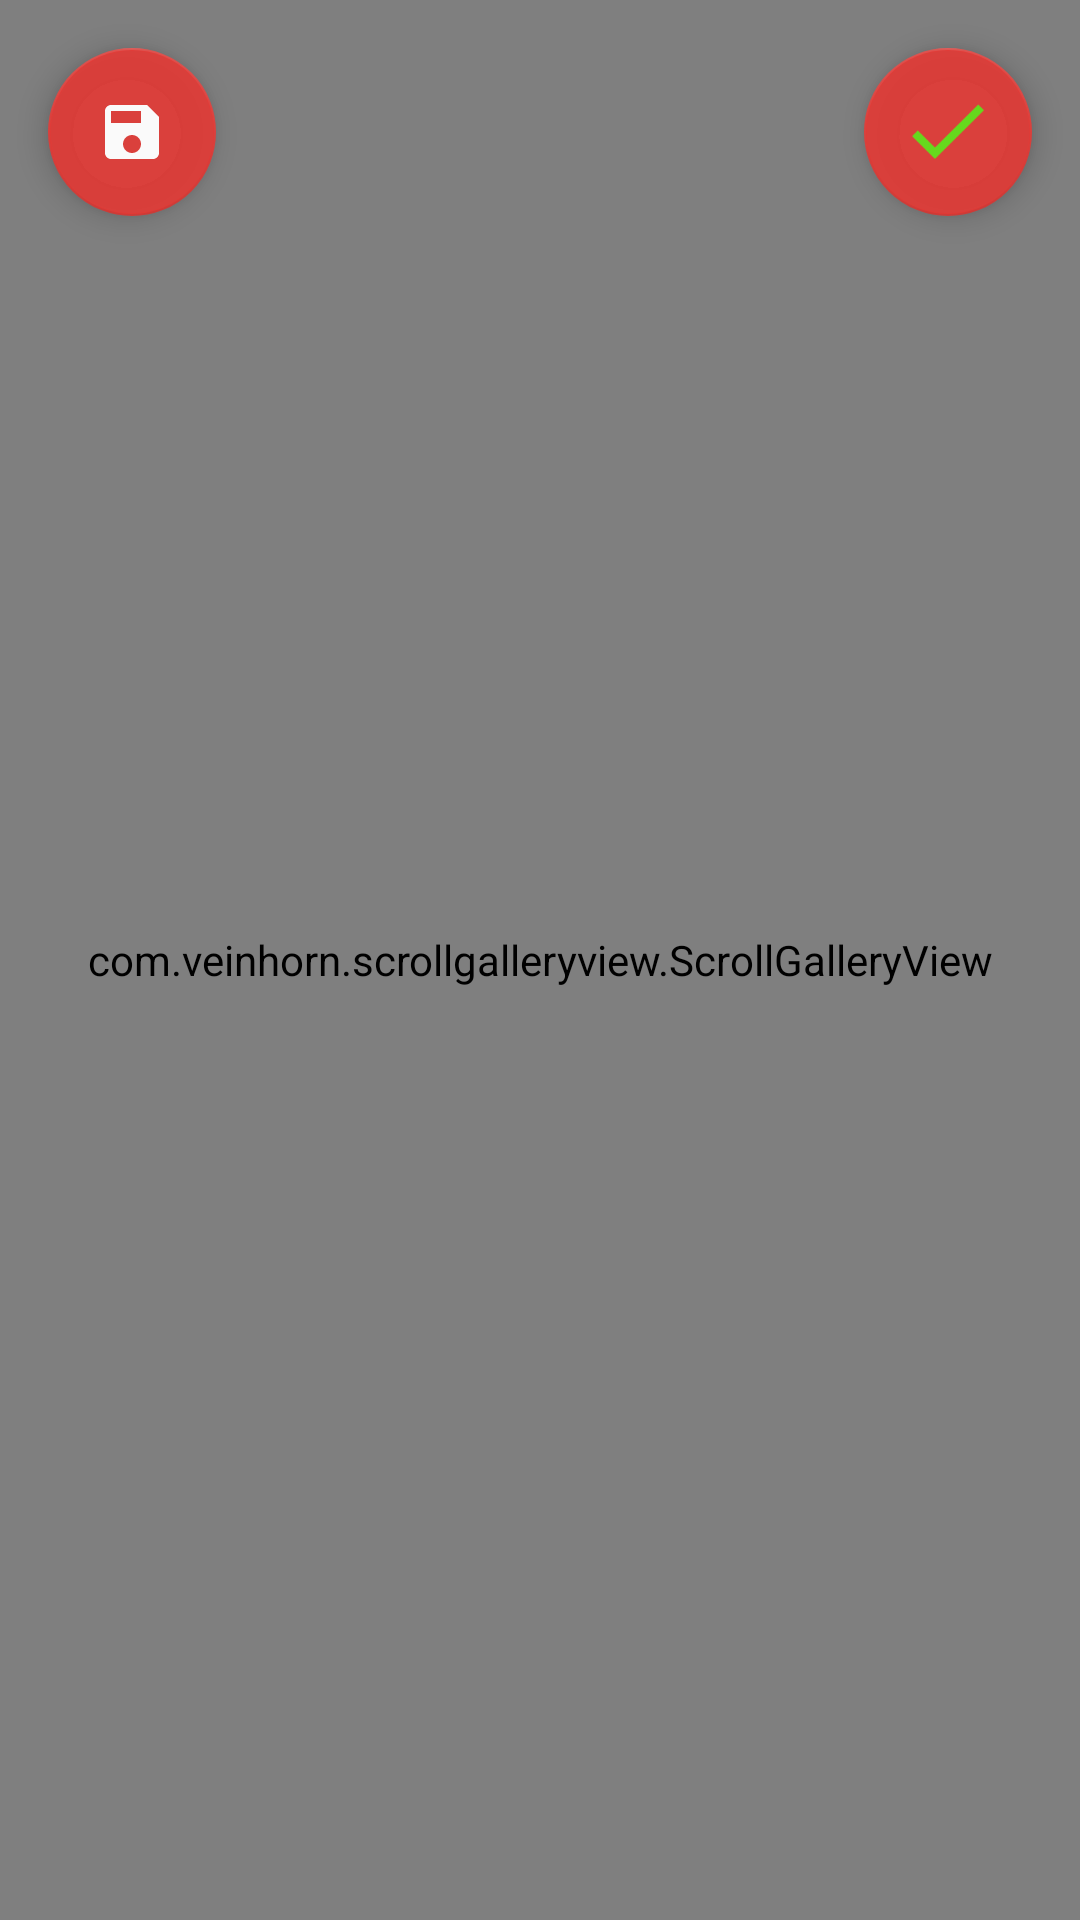

Point at icon controls on the screen. Image size 1080px x 1920px, points as [x,y].
done: [948,132]
save: [132,132]
